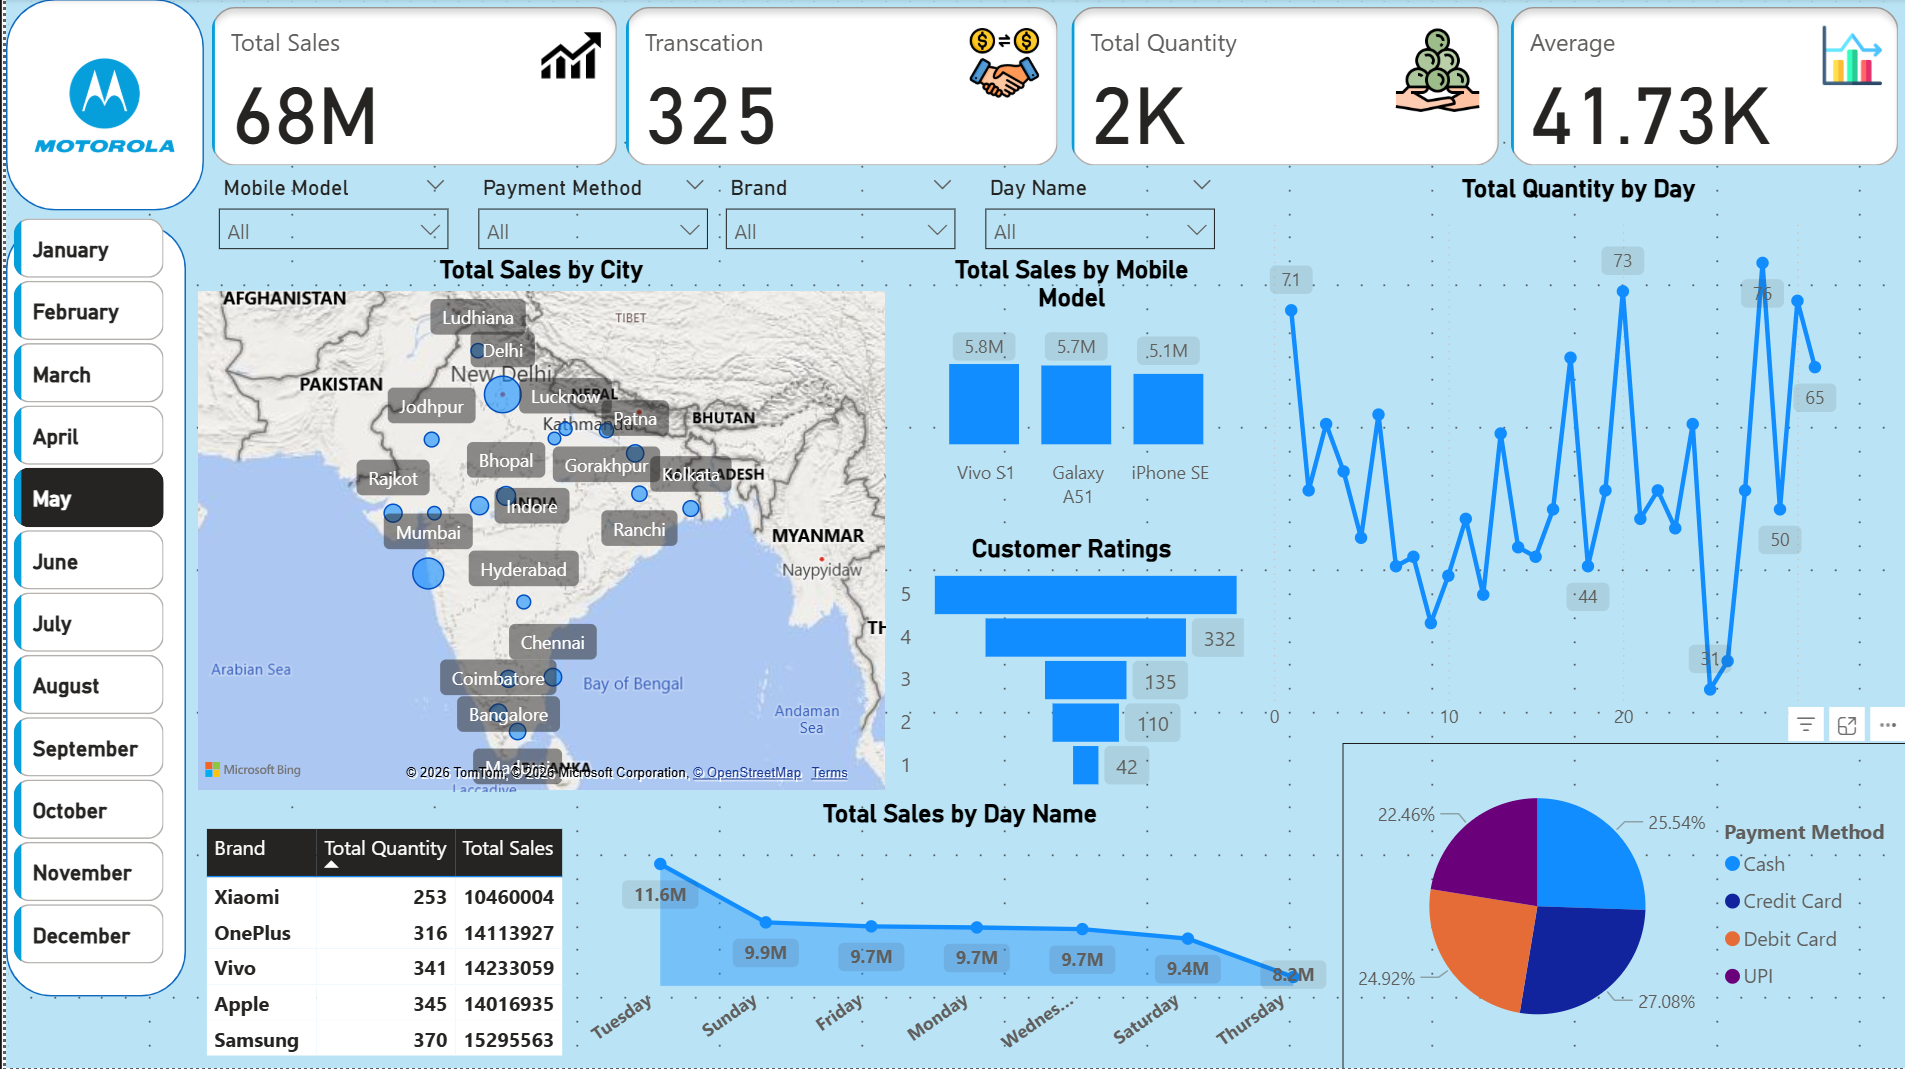

The dashboard page shown, as its layout file describes it:
{"tool":"powerbi","page":{"name":"Page 1","canvas":[1280,720],"ordinal":0},"visuals":[{"type":"shape","box":[0,0,133.4,142.5],"z":0},{"type":"cardVisual","fields":{"Data":["Sales data.Total Sales"]},"box":[133,0,283,117],"z":1000,"group":"g1"},{"type":"shape","box":[0,151.6,121.3,520.4],"z":1000},{"type":"advancedSlicerVisual","fields":{"Values":["Sales data.Date.Variation.Date Hierarchy.Month"]},"box":[0,142.5,111.2,520.4],"z":2000},{"type":"cardVisual","fields":{"Data":["Sales data.Total Quantity"]},"box":[712.2,0,298,117],"z":3000,"group":"g1"},{"type":"image","box":[8.1,14.1,116.2,115.2],"z":3000},{"type":"group","id":"g1","title":"Group 1","box":[133,0,1147,117],"z":4000},{"type":"cardVisual","title":"Total ","fields":{"Data":["Sales data.Total trasncation"]},"box":[412.2,0,301.1,117],"z":5000,"group":"g1"},{"type":"map","fields":{"Category":["Sales data.City"],"Size":["Sales data.Total Sales"]},"box":[124.3,171.8,472.9,366.8],"z":5000},{"type":"lineChart","fields":{"Y":["Sales data.Total Quantity"],"Category":["Sales data.Date.Variation.Date Hierarchy.Day"]},"box":[838.7,117.2,441.6,384],"z":6000},{"type":"cardVisual","fields":{"Data":["Sales data.Average Price"]},"box":[1008.2,0,271.8,117],"z":7000,"group":"g1"},{"type":"clusteredColumnChart","fields":{"Category":["Sales data.Mobile Model"],"Y":["Sales data.Total Sales"]},"box":[597.2,171.8,241.5,178.9],"z":7000},{"type":"pieChart","fields":{"Y":["CountNonNull(Sales data.Transaction ID)"],"Series":["Sales data.Payment Method"]},"box":[900.4,501.2,380,219.3],"z":8000},{"type":"funnel","title":" Customer Ratings","fields":{"Y":["Sum(Sales data.Customer Ratings)"],"Category":["Sales data.Customer Ratings"]},"box":[597.2,359.7,241.5,176.8],"z":9000},{"type":"areaChart","fields":{"Y":["Sales data.Total Sales"],"Category":["Sales data.Day Name"]},"box":[385,538.6,515.4,181.9],"z":10000},{"type":"tableEx","fields":{"Values":["Sales data.Brand","Sales data.Total Quantity","Sales data.Total Sales"]},"box":[129.3,553.8,262.7,166.7],"z":11000},{"type":"slicer","fields":{"Values":["Sales data.Day Name"]},"box":[649.8,113.2,174.8,58.6],"z":12000},{"type":"slicer","fields":{"Values":["Sales data.Mobile Model"]},"box":[133.4,113.2,174.8,58.6],"z":13000},{"type":"slicer","fields":{"Values":["Sales data.Payment Method"]},"box":[308.2,113.2,174.8,58.6],"z":14000},{"type":"slicer","fields":{"Values":["Sales data.Brand"]},"box":[474.9,113.2,174.8,58.6],"z":15000}]}

Visuals, with their boxes in screenshot pixels (x1, y1, x2, y2), scaled from the page's 1280x720 canvas onto the 1905x1069 screenshot:
shape: [0, 0, 199, 212]
cardVisual - Sales data.Total Sales: [198, 0, 619, 174]
shape: [0, 225, 181, 998]
advancedSlicerVisual - Sales data.Date.Variation.Date Hierarchy.Month: [0, 212, 165, 984]
cardVisual - Sales data.Total Quantity: [1060, 0, 1503, 174]
image: [12, 21, 185, 192]
"Group 1" group: [198, 0, 1904, 174]
"Total " cardVisual: [613, 0, 1062, 174]
map - Sales data.City x Sales data.Total Sales: [185, 255, 889, 800]
lineChart - Sales data.Total Quantity x Sales data.Date.Variation.Date Hierarchy.Day: [1248, 174, 1904, 744]
cardVisual - Sales data.Average Price: [1500, 0, 1904, 174]
clusteredColumnChart - Sales data.Mobile Model x Sales data.Total Sales: [889, 255, 1248, 521]
pieChart - CountNonNull(Sales data.Transaction ID) x Sales data.Payment Method: [1340, 744, 1904, 1068]
" Customer Ratings" funnel: [889, 534, 1248, 797]
areaChart - Sales data.Total Sales x Sales data.Day Name: [573, 800, 1340, 1068]
tableEx - Sales data.Brand x Sales data.Total Quantity: [192, 822, 583, 1068]
slicer - Sales data.Day Name: [967, 168, 1227, 255]
slicer - Sales data.Mobile Model: [199, 168, 459, 255]
slicer - Sales data.Payment Method: [459, 168, 719, 255]
slicer - Sales data.Brand: [707, 168, 967, 255]
